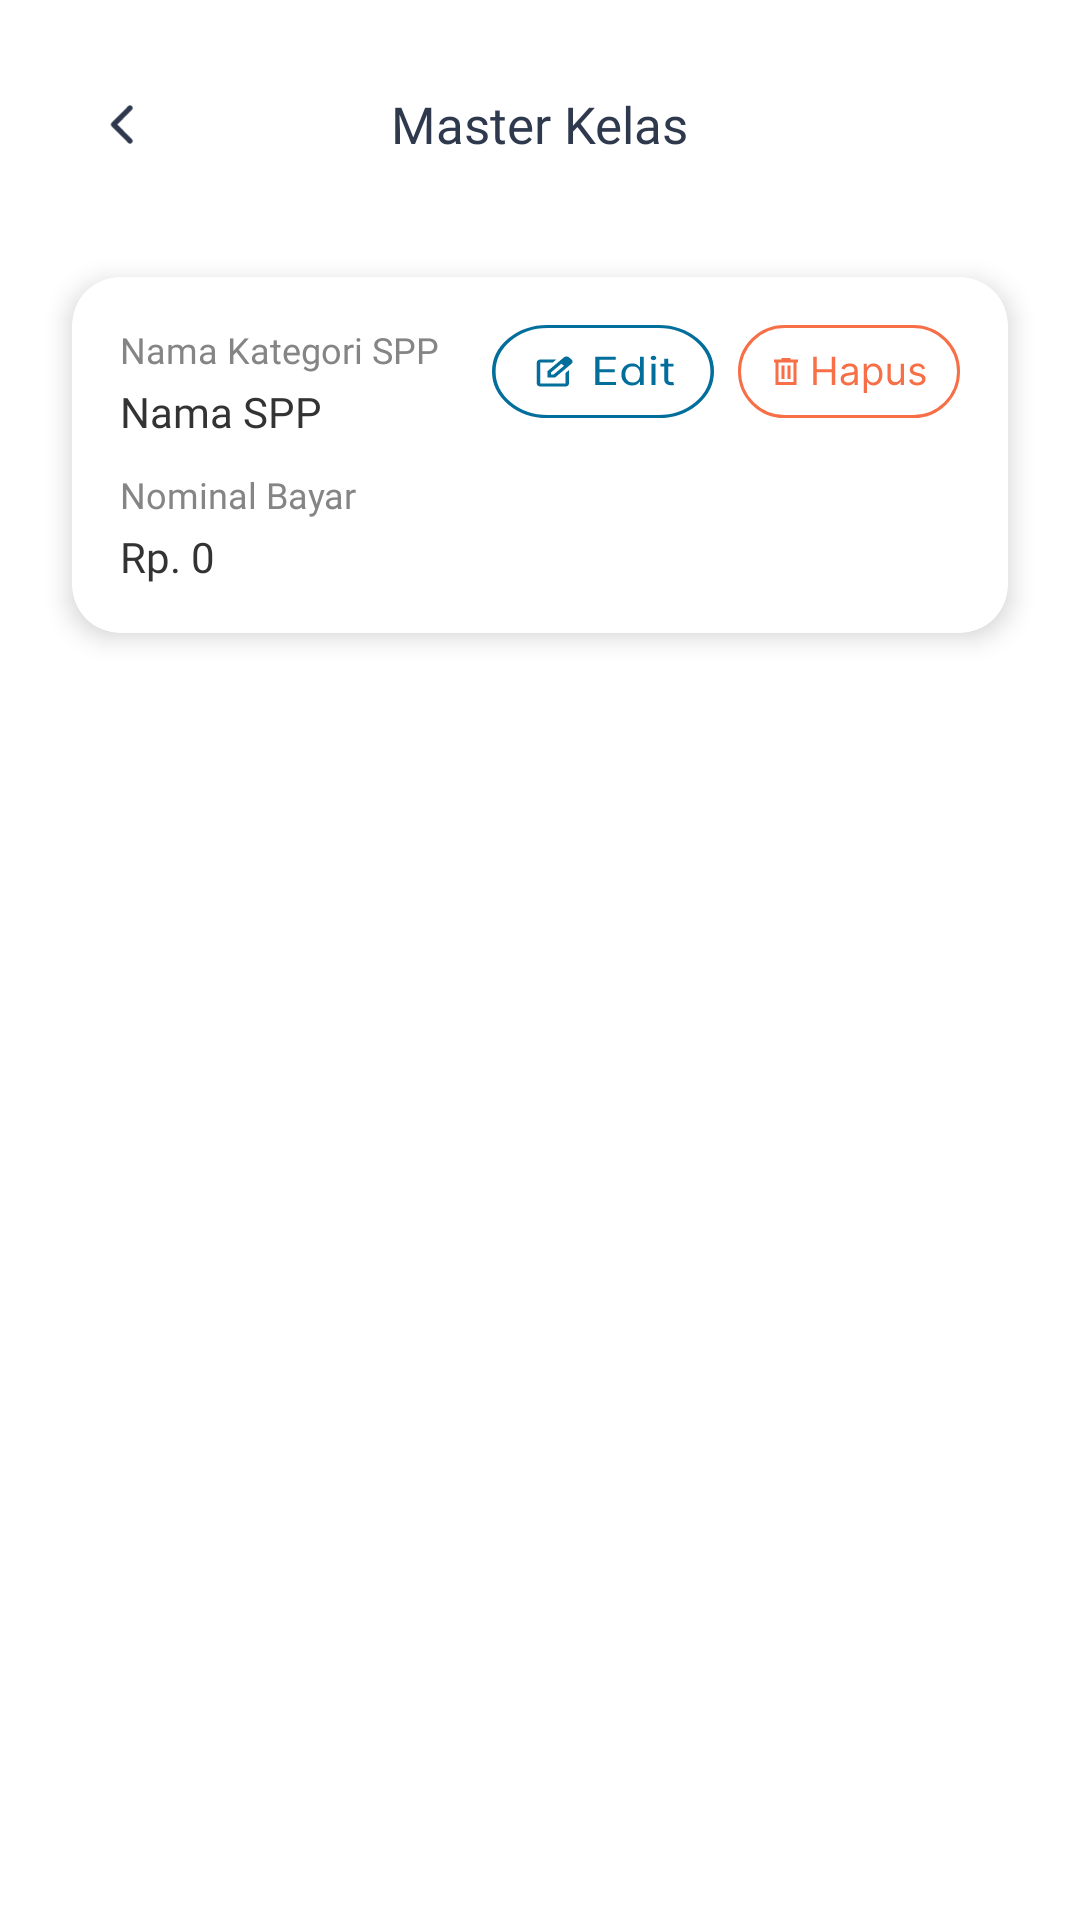

Point at icon controls on the screen. Image size 1080 × 1920, points as (x,y).
chevron back: (121,124)
